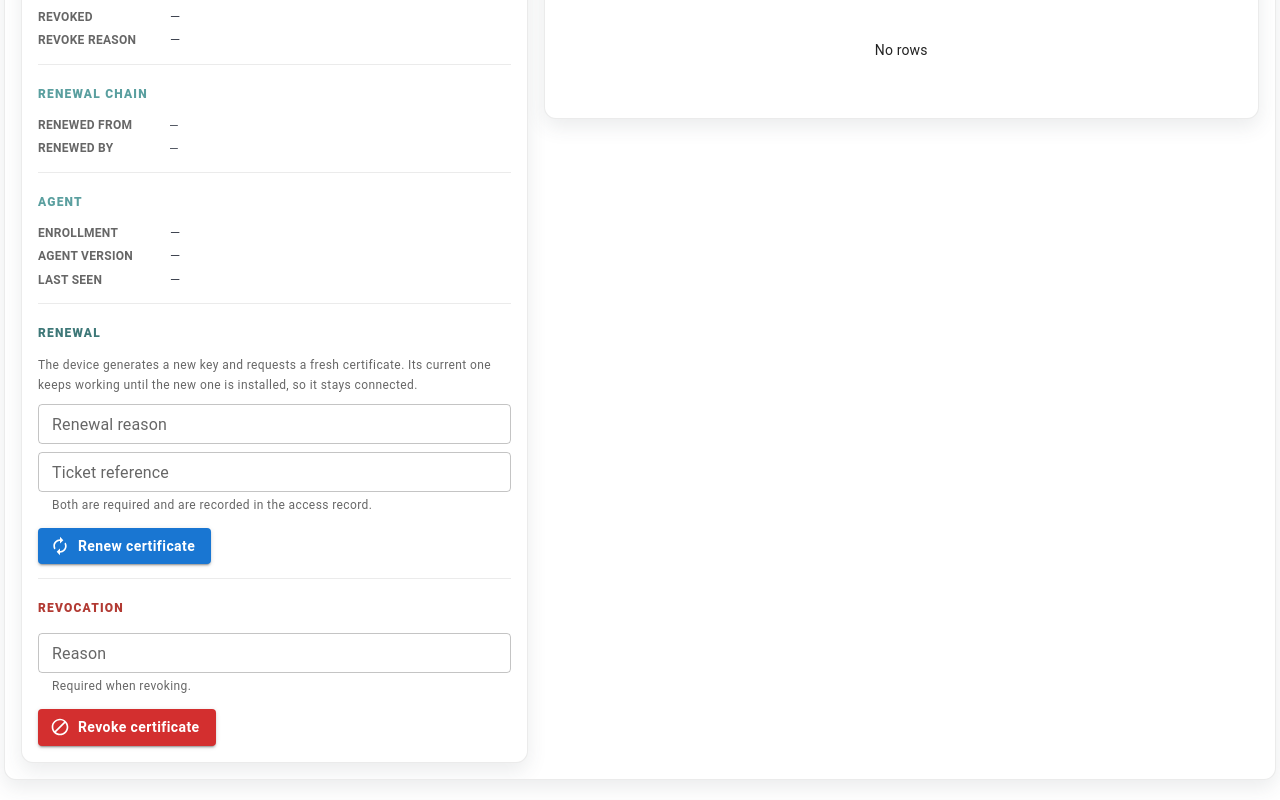
PKI — renovar la identidad de un equipo › no manda nada si falta el expediente
This screenshot has width=1280, height=800.
(page scrolled)
Step 1. Type "sin ticket" into the field labelled "Renewal reason" → {"x": 274, "y": 424}, box [38,404,510,444]
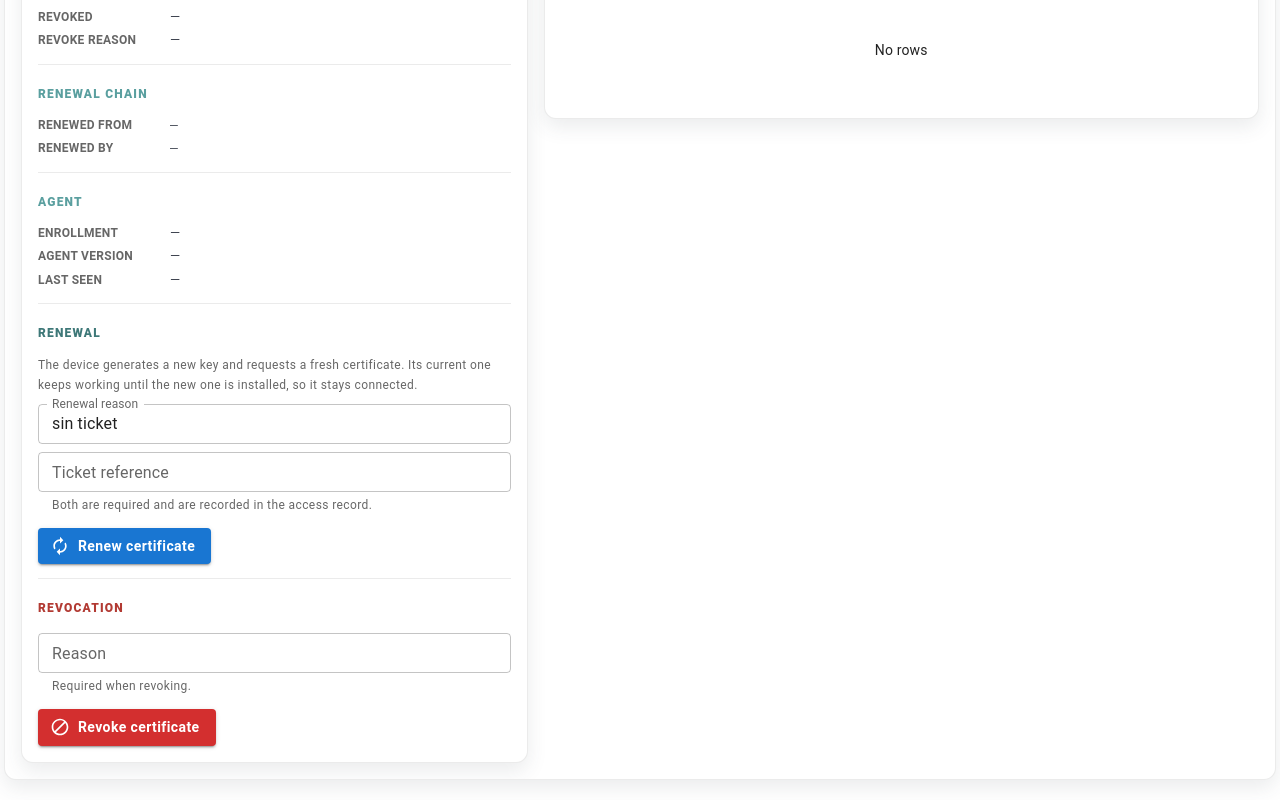
Step 2. Click the button "Renew certificate" → {"x": 125, "y": 546}, box [38,528,211,564]
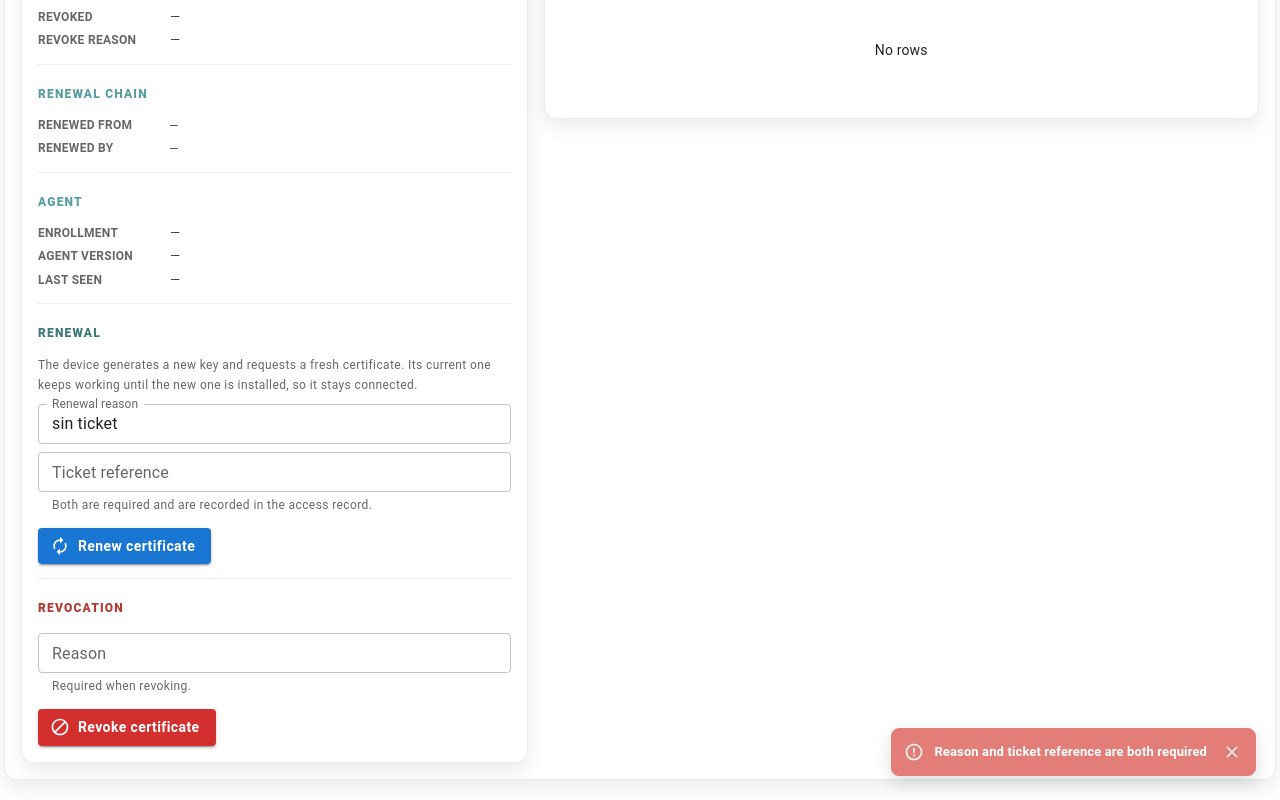
Expected: the text "Reason and ticket reference are both required" is shown, [934,743,1207,761]
